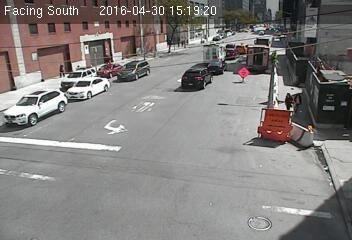neg: (252, 114, 274, 143), (253, 211, 267, 230), (179, 68, 189, 82), (132, 44, 142, 57), (83, 68, 92, 81), (34, 72, 42, 83)
pos: (290, 93, 306, 114), (282, 92, 296, 110), (57, 63, 67, 77)
